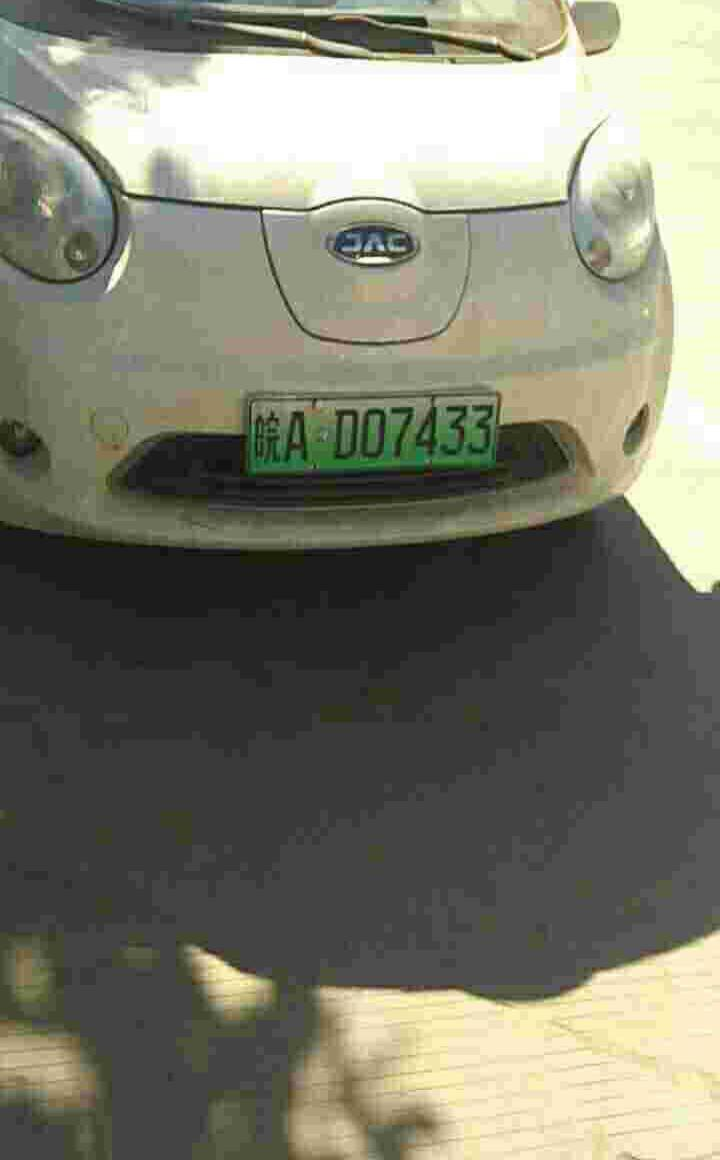car_id: (247, 392, 499, 472)
